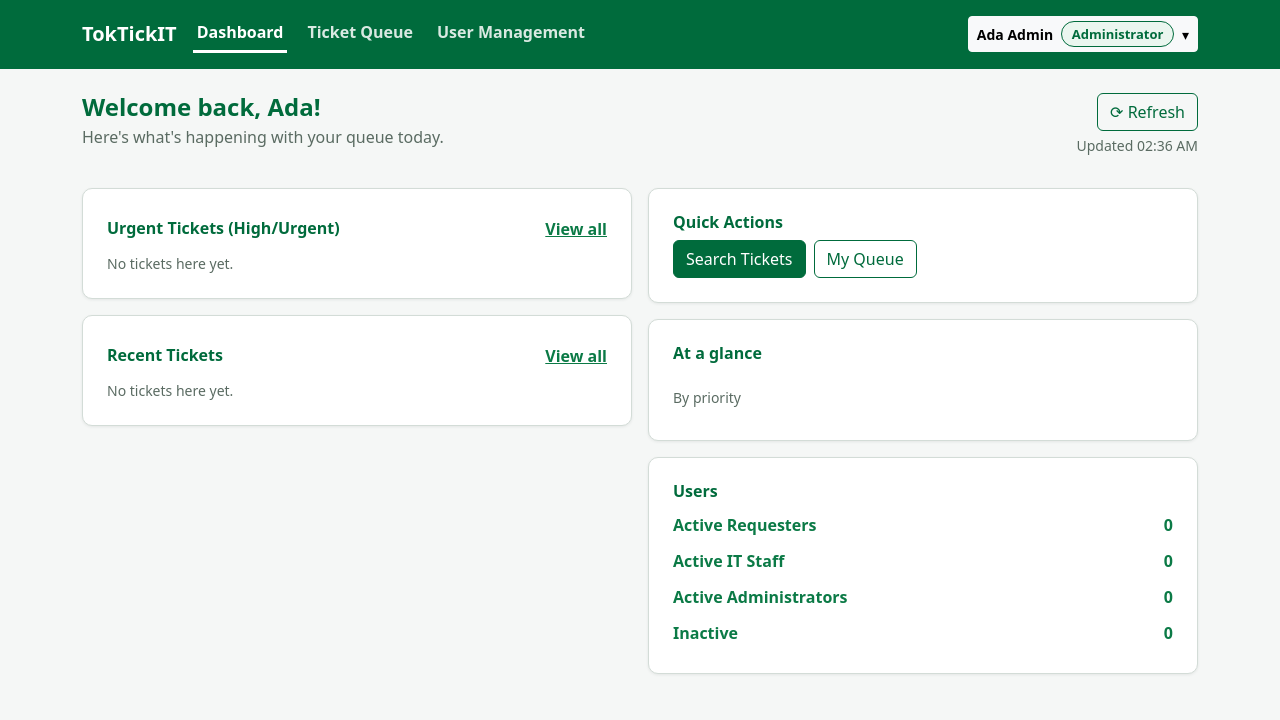
UI-34 - user list and search (AC-46) › renders Name (you), Email, Role, Status, and Edit
What coordinates should you click on to do the following:
click the button "User Management"
I would click on:
 (511, 34)
Its box is [433,16,589,53].
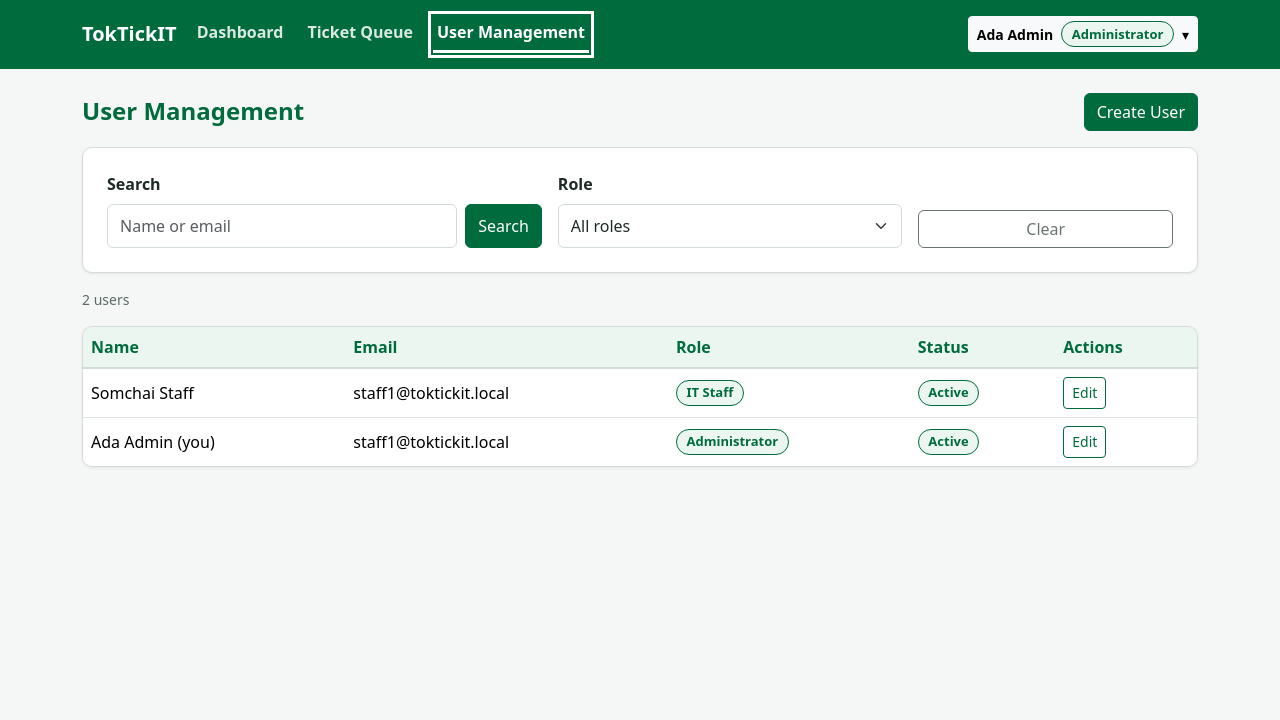
Now the heading "User Management" is shown, box [82,97,304,126]
Now the table with test id "user-rows" is shown, box [83,368,1197,466]
Now the column heading "Name" is shown, box [83,327,345,368]
